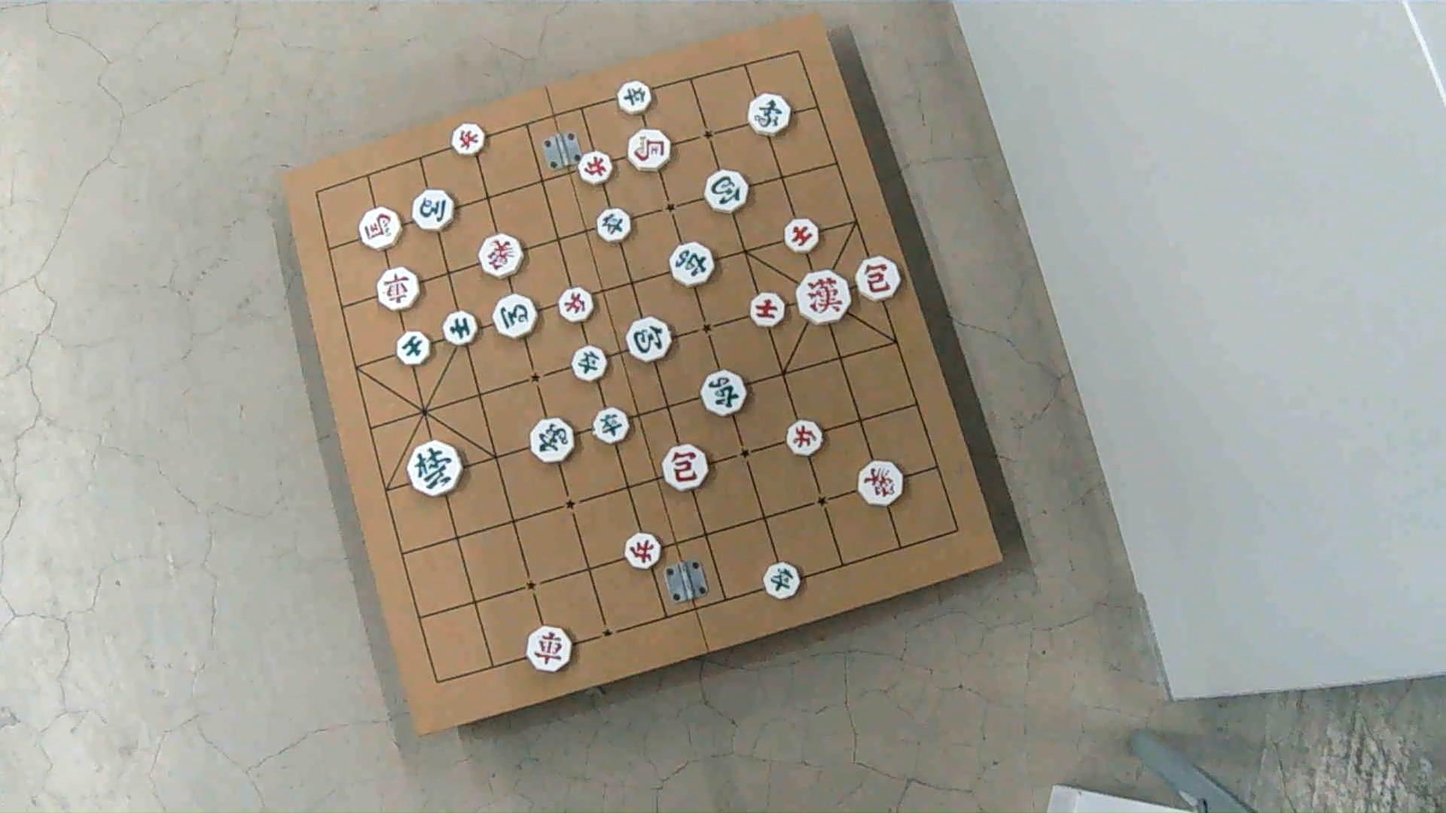cha_green: (700, 370, 747, 416), (669, 241, 712, 285)
cha_red: (528, 629, 572, 673), (377, 266, 420, 309)
jol_green: (764, 560, 801, 597), (593, 409, 630, 443), (572, 348, 608, 382), (620, 81, 654, 114), (599, 209, 633, 242)
jol_red: (788, 421, 824, 458), (557, 286, 593, 322), (626, 533, 661, 569), (577, 152, 612, 185), (453, 123, 487, 156)
ma_green: (493, 296, 538, 339), (410, 192, 453, 233)
ma_red: (627, 128, 671, 170), (361, 208, 404, 250)
po_green: (626, 316, 672, 361), (705, 170, 749, 213)
po_red: (664, 444, 712, 491), (855, 255, 901, 300)
sa_green: (444, 310, 479, 345), (396, 330, 430, 364)
sa_red: (750, 292, 786, 326), (786, 217, 820, 252)
sang_green: (531, 420, 575, 464), (749, 93, 792, 136)
sang_red: (859, 461, 904, 506), (478, 234, 521, 278)
wang_green: (407, 440, 459, 495)
wang_red: (795, 272, 850, 326)
